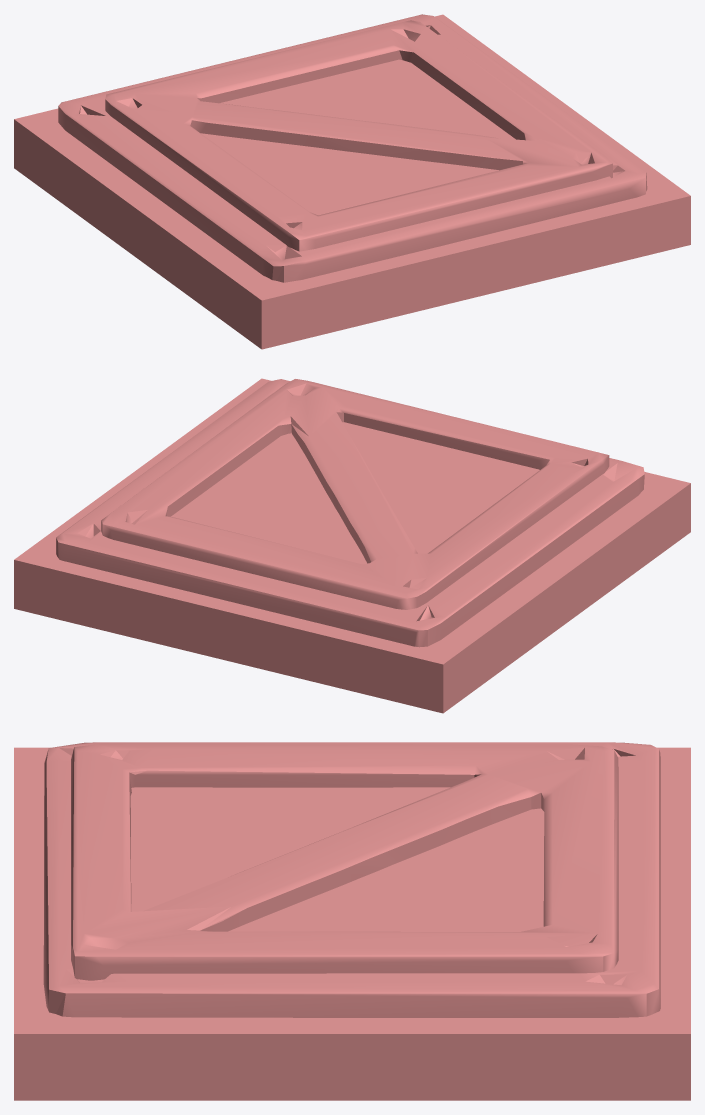
Rendered from ComplexWall_1x1_03_Final.fbx.
3 views of the same model, one above another, from view 1: azimuth 30°, elevation 25°; view 2: azimuth 150°, elevation 25°; view 3: azimuth 270°, elevation 25° (orthographic). The views are drawn at different scales.
Visible parts, largest first — view 1: Final_ComplexWall_1x1_03; view 2: Final_ComplexWall_1x1_03; view 3: Final_ComplexWall_1x1_03.
Part boxes in pixels (x1,y1,x2,y2): Final_ComplexWall_1x1_03: (14,14,690,349); Final_ComplexWall_1x1_03: (14,378,690,713); Final_ComplexWall_1x1_03: (14,742,690,1100).
Size of the model in its own units: 200 by 35.71 by 200.
